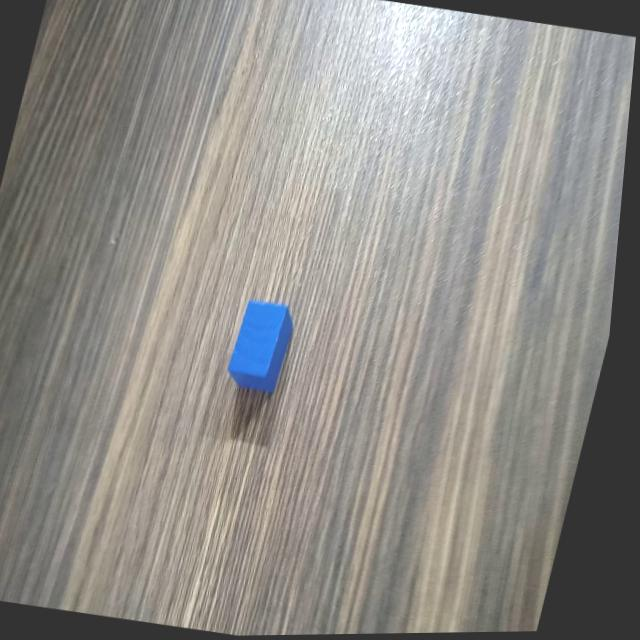cube: (226, 296, 309, 401)
